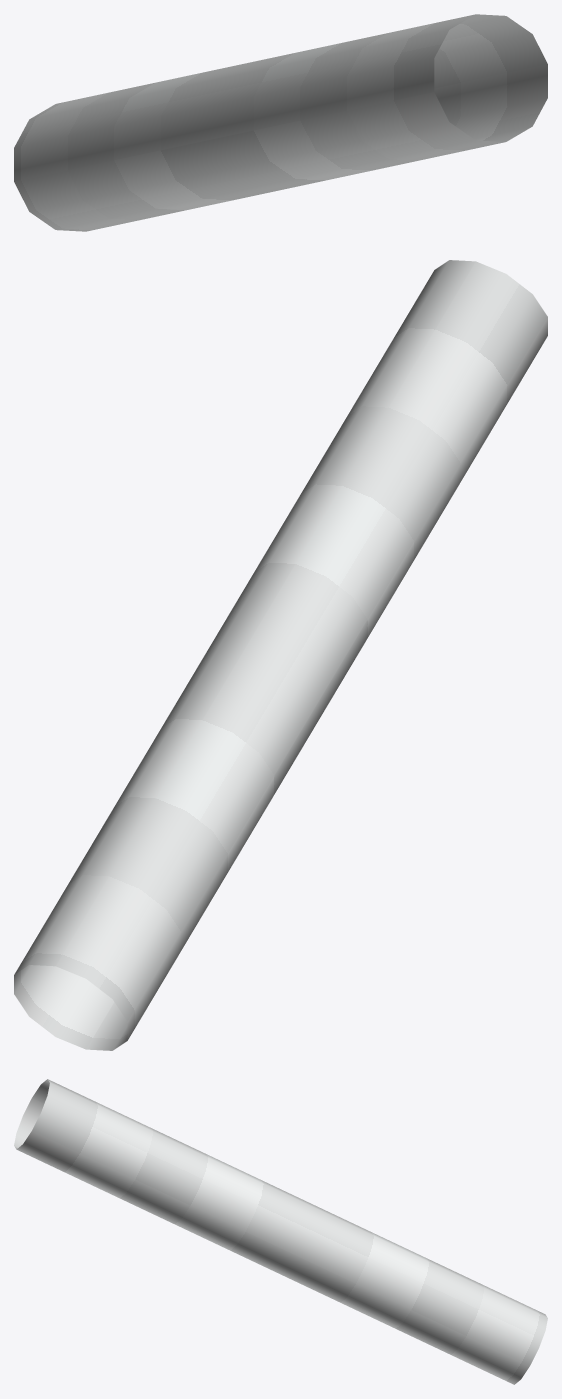
The model's file is luminairearm_truss15ftdouble_c14.obj.
The picture shows the model from 3 angles, top to bottom: view 1: azimuth 30°, elevation 25°; view 2: azimuth 150°, elevation 25°; view 3: azimuth 270°, elevation 25°; orthographic projection. The views are drawn at different scales.
Visible parts, largest first — view 1: luminairearm_truss15ftdouble_c14; view 2: luminairearm_truss15ftdouble_c14; view 3: luminairearm_truss15ftdouble_c14.
Part boxes in pixels (left/top/right/bottom): luminairearm_truss15ftdouble_c14: left=14, top=14, right=547, bottom=231; luminairearm_truss15ftdouble_c14: left=14, top=260, right=547, bottom=1050; luminairearm_truss15ftdouble_c14: left=14, top=1079, right=547, bottom=1384.
Size of the model in its own units: 0.1562 by 0.6601 by 1.07.
